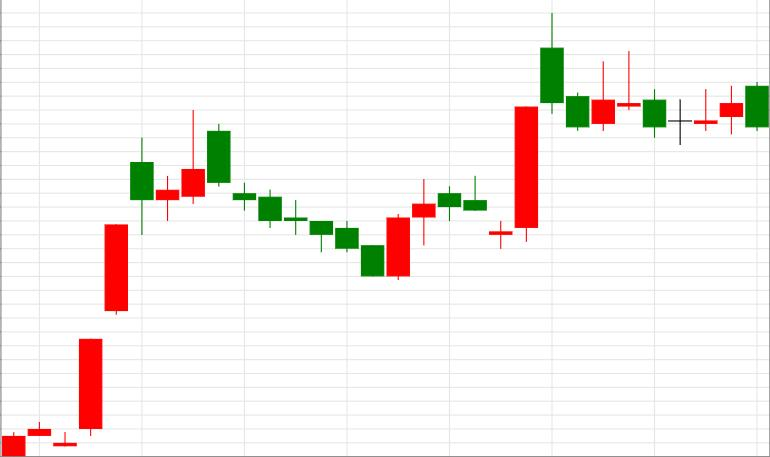bullish_engulfing_rise: (208, 124, 411, 280)
shooting_star_fall: (3, 109, 205, 456)
